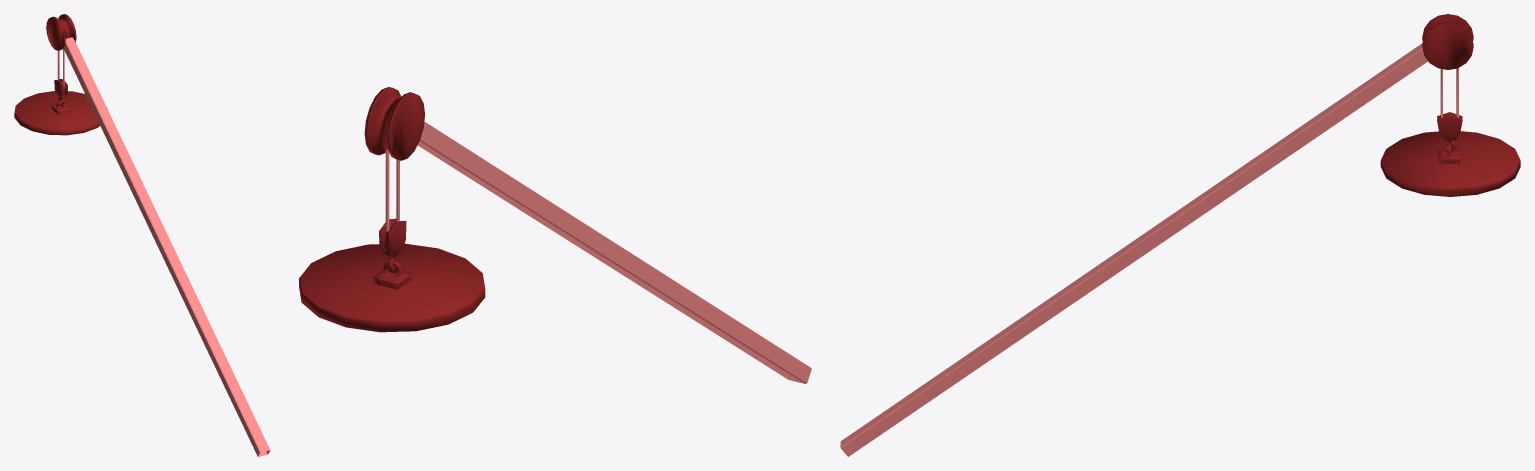
Rendered from crane.fbx.
The picture shows the model from 3 angles, left to right: view 1: azimuth 30°, elevation 25°; view 2: azimuth 150°, elevation 25°; view 3: azimuth 270°, elevation 25°; orthographic projection. The views are drawn at different scales.
Visible parts, largest first — view 1: Cube.004; view 2: Cube.004; view 3: Cube.004.
Part boxes in pixels (left/top/right/bottom): Cube.004: left=14, top=14, right=270, bottom=456; Cube.004: left=299, top=87, right=811, bottom=383; Cube.004: left=840, top=14, right=1520, bottom=456.
Bounding box in the file's own units: 516 × 1771 × 2510.
